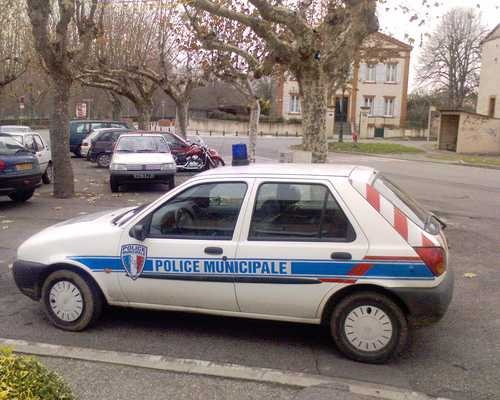Police Car: (23, 141, 457, 365)
